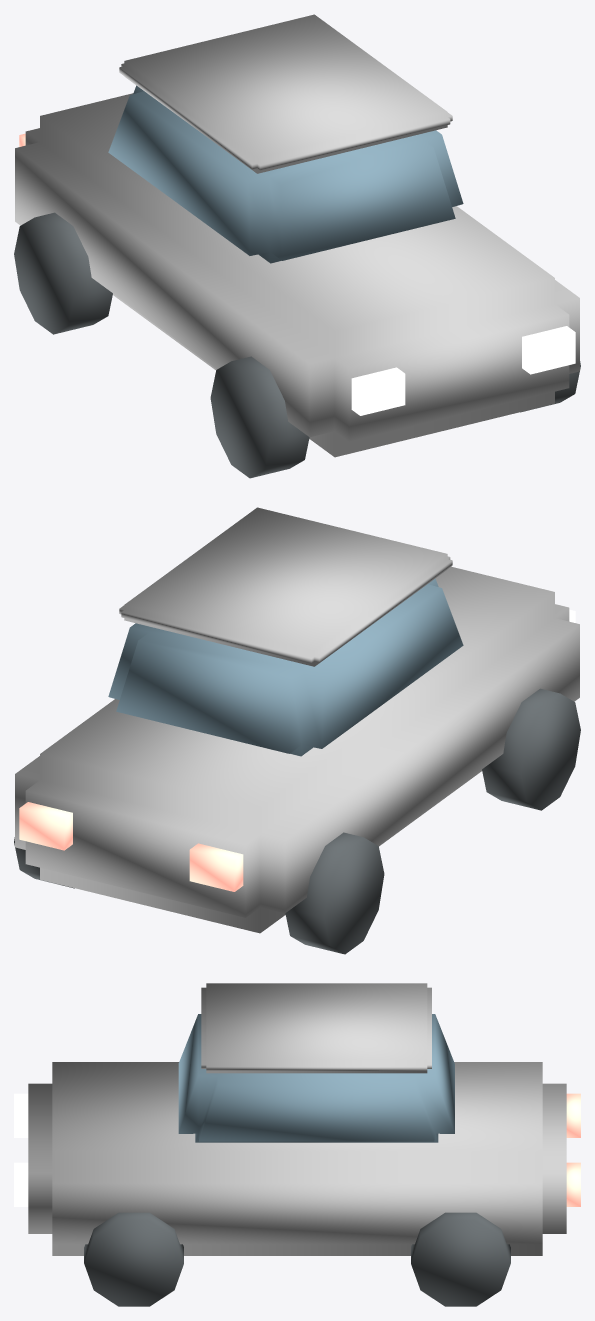
Rendered from sedan.glb.
3 renders of one model, top to bottom at view 1: azimuth 30°, elevation 25°; view 2: azimuth 150°, elevation 25°; view 3: azimuth 270°, elevation 25°, orthographic. The views are drawn at different scales.
Parts seen in each view (by area): view 1: Sedan; view 2: Sedan; view 3: Sedan.
Boxes of the visible parts, x1,y1,x2,y2 form: Sedan: (14, 14, 580, 478); Sedan: (14, 507, 580, 954); Sedan: (14, 983, 580, 1306).
Size of the model in its own units: 0.31 by 0.255 by 0.59.
